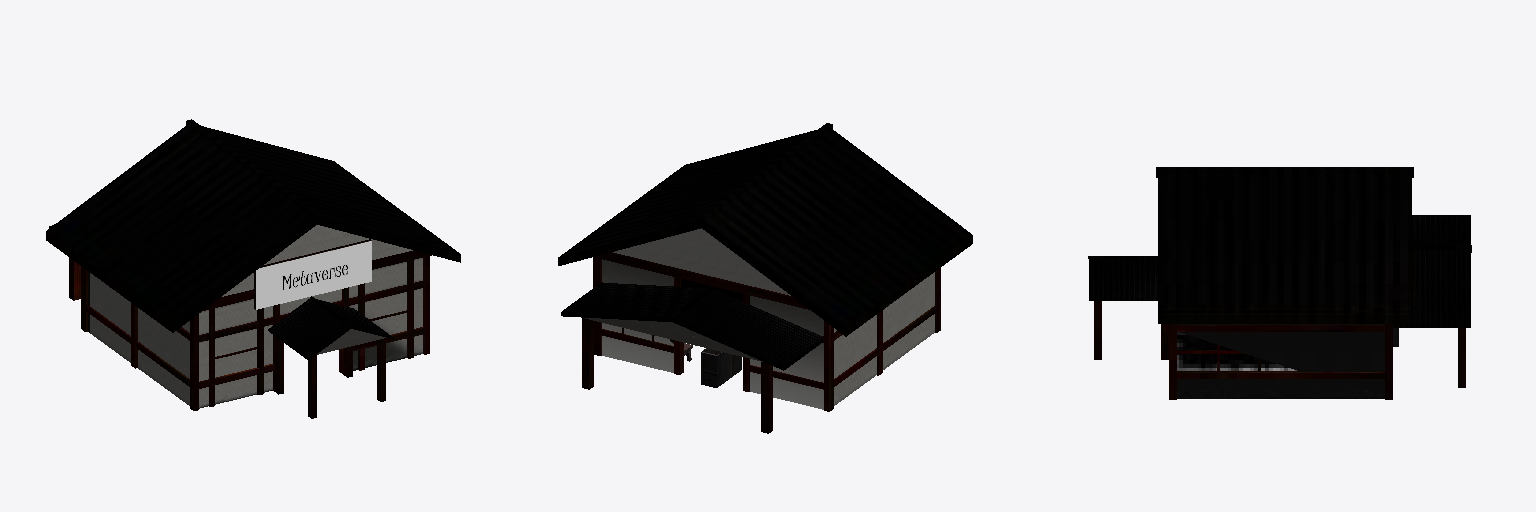
The picture shows the model from 3 angles: view 1: azimuth 30°, elevation 25°; view 2: azimuth 150°, elevation 25°; view 3: azimuth 270°, elevation 25°; orthographic projection.
Size of the model in its own units: 8.07 by 4.66 by 9.29.
Materials: 1 (1 with a texture image).